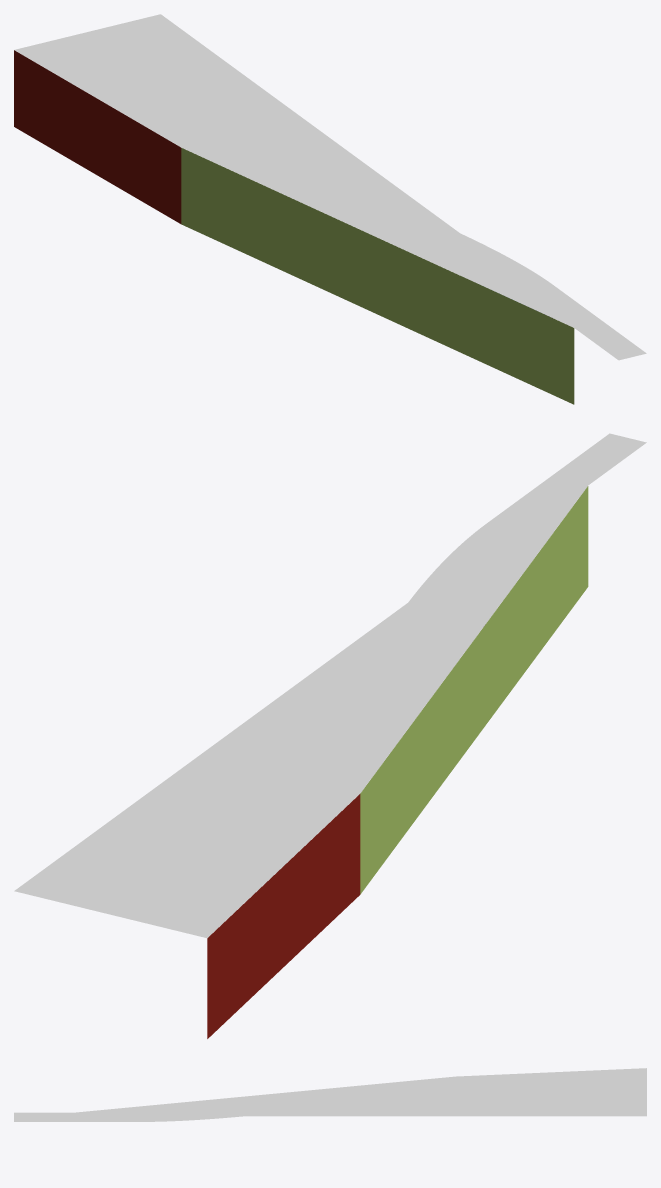
File: scramjet_n2_m14.glb
The picture shows the model from 3 angles, top to bottom: view 1: azimuth 30°, elevation 25°; view 2: azimuth 150°, elevation 25°; view 3: azimuth 270°, elevation 25°; orthographic projection. The views are drawn at different scales.
Visible parts, largest first — view 1: Renderer Node; view 2: Renderer Node; view 3: Renderer Node.
Boxes of the visible parts, left/top/right/bottom form: Renderer Node: left=14, top=14, right=646, bottom=404; Renderer Node: left=14, top=433, right=646, bottom=1038; Renderer Node: left=14, top=1068, right=646, bottom=1121.
Size of the model in its own units: 1.11 by 0.5005 by 5.54.
